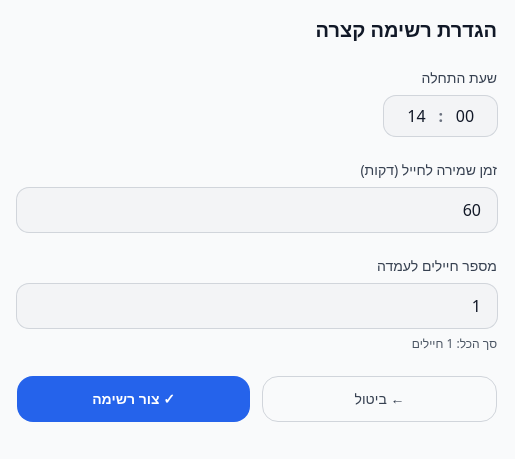
it: ShortListStep2 › shows per-field error when numberOfWarriors exceeds available members
Expected: the heading "הגדרת רשימה קצרה" is shown, [316, 16, 497, 43]
// Set numberOfWarriors to exceed available count (2 base members, set to 5)
Step 1. Replace the text in the number field showing "1" below "מספר חיילים לעמדה" with "5" → point(257, 306), box [17, 284, 497, 328]
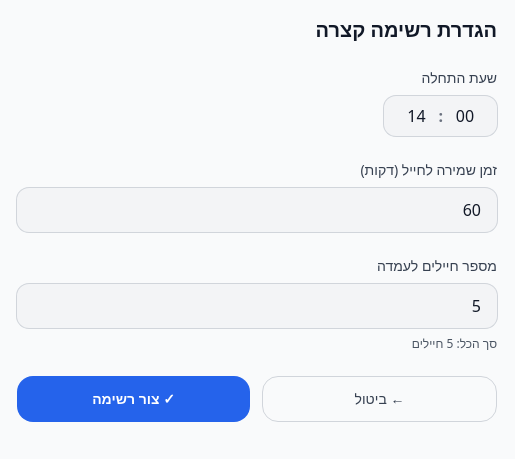
Step 2. Click the button "✓ צור רשימה" → point(134, 399), box [17, 376, 250, 422]
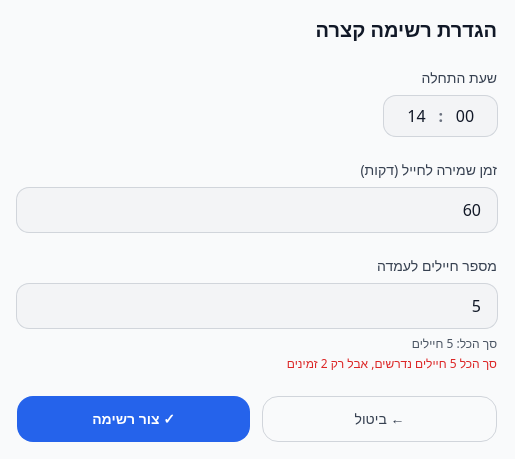
Expected: the text "סך הכל 5 חיילים נדרשים, אבל רק 2 זמינים" is shown, [287, 355, 497, 372]
